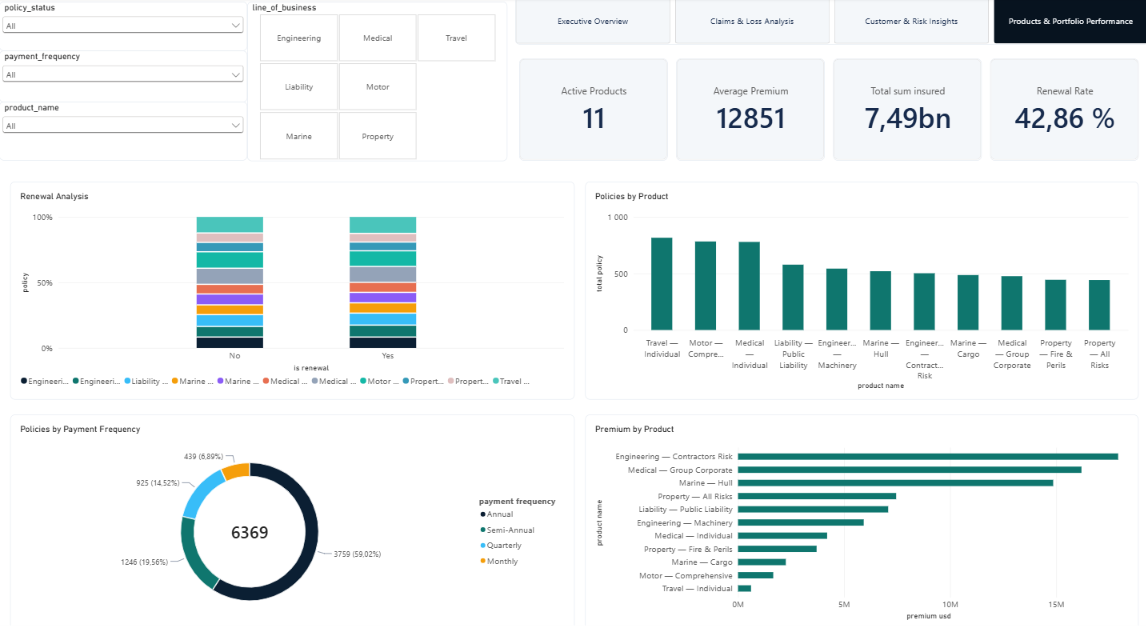

Layout of this report page (visuals, bound fields, positions):
{"tool":"powerbi","page":{"name":"Products & Portfolio Performance","canvas":[1920,1080],"ordinal":3},"visuals":[{"type":"clusteredBarChart","title":"Premium by Product","fields":{"Category":["public raw_products.product_name"],"Y":["Sum(public raw_policies.premium_usd)"]},"box":[978,696,924,360],"z":0},{"type":"clusteredColumnChart","title":"Policies by Product","fields":{"Category":["public raw_products.product_name"],"Y":["CountNonNull(public raw_policies.policy_id)"]},"box":[978,308,924,364],"z":1000},{"type":"donutChart","title":"Policies by Payment Frequency","fields":{"Category":["public raw_policies.payment_frequency"],"Y":["Count(public raw_policies.policy_id)"]},"box":[18,696,942,360],"z":2000},{"type":"hundredPercentStackedColumnChart","title":"Renewal Analysis","fields":{"Category":["public raw_policies.is_renewal"],"Series":["public raw_products.product_name"],"Y":["CountNonNull(public raw_policies.policy_id)"]},"box":[18,308,942,364],"z":3000},{"type":"slicer","fields":{"Values":["public raw_products.product_name"]},"box":[0,174,414,98],"z":4000},{"type":"slicer","fields":{"Values":["public raw_products.line_of_business"]},"box":[414,6,434,266],"z":5000},{"type":"slicer","fields":{"Values":["public raw_policies.payment_frequency"]},"box":[0,88,414,86],"z":6000},{"type":"slicer","fields":{"Values":["public raw_policies.policy_status"]},"box":[0,6,414,82],"z":7000},{"type":"cardVisual","fields":{"Data":["public raw_products.Active Products"]},"box":[868,102,248,170],"z":8000},{"type":"cardVisual","fields":{"Data":["public raw_policies.Average Premium"]},"box":[1130,102,248,170],"z":9000},{"type":"cardVisual","fields":{"Data":["public raw_policies.Total sum insured"]},"box":[1392,102,248,170],"z":10000},{"type":"cardVisual","fields":{"Data":["public raw_policies.Renewal Rate"]},"box":[1654,102,248,170],"z":11000},{"type":"pageNavigator","box":[862,0,1058,78],"z":12000}]}

Visuals, with their boxes in screenshot pixels (x1, y1, x2, y2), scaled from the page's 1920x1080 canvas onto the 1146x626 screenshot:
"Premium by Product" clusteredBarChart: crop(584, 403, 1135, 612)
"Policies by Product" clusteredColumnChart: crop(584, 179, 1135, 390)
"Policies by Payment Frequency" donutChart: crop(11, 403, 573, 612)
"Renewal Analysis" hundredPercentStackedColumnChart: crop(11, 179, 573, 390)
slicer - public raw_products.product_name: crop(0, 101, 247, 158)
slicer - public raw_products.line_of_business: crop(247, 3, 506, 158)
slicer - public raw_policies.payment_frequency: crop(0, 51, 247, 101)
slicer - public raw_policies.policy_status: crop(0, 3, 247, 51)
cardVisual - public raw_products.Active Products: crop(518, 59, 666, 158)
cardVisual - public raw_policies.Average Premium: crop(674, 59, 822, 158)
cardVisual - public raw_policies.Total sum insured: crop(831, 59, 979, 158)
cardVisual - public raw_policies.Renewal Rate: crop(987, 59, 1135, 158)
pageNavigator: crop(515, 0, 1145, 45)
